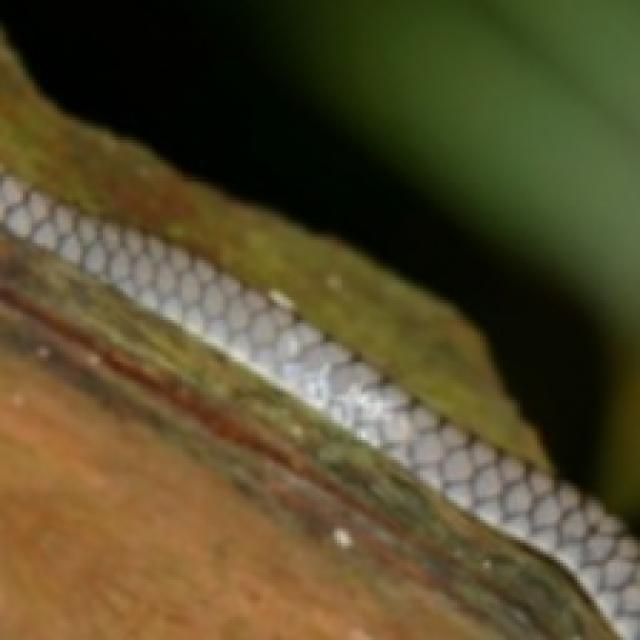red-tailed green ratsnake: (0, 171, 640, 640)
